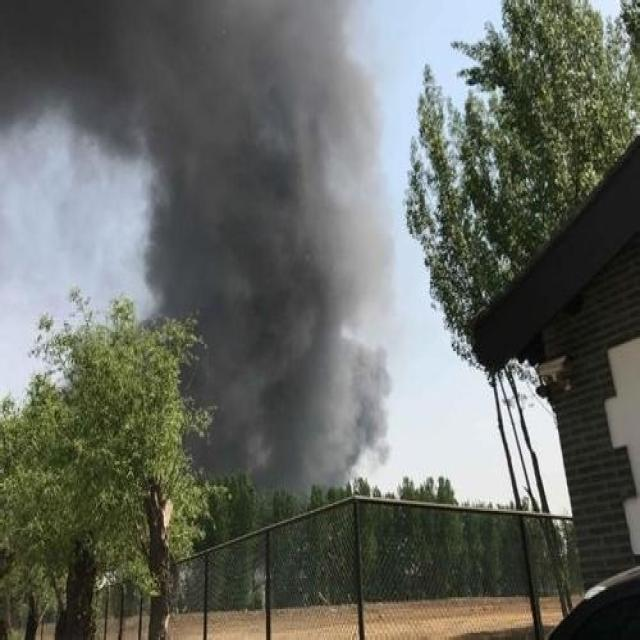Smoke: (2, 1, 394, 494)
